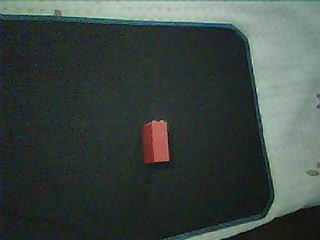lego: (141, 119, 170, 164)
